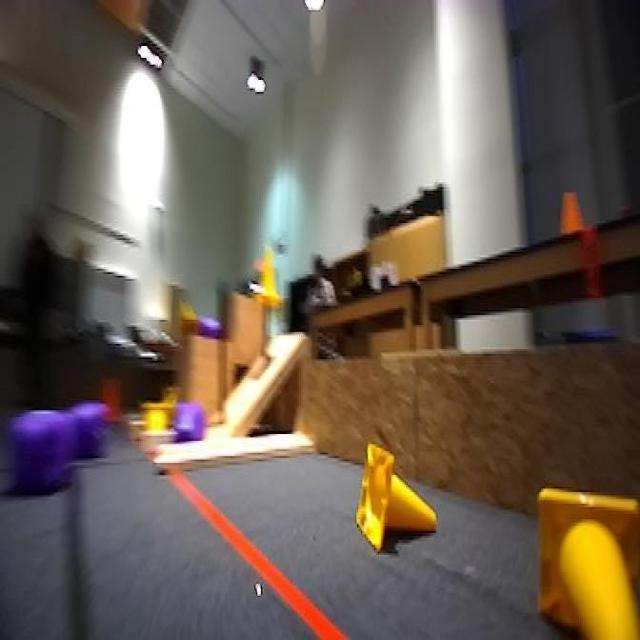frc_cone: (537, 483, 640, 640), (354, 444, 439, 550), (258, 238, 283, 313), (138, 400, 174, 436)
frc_cube: (10, 408, 74, 501), (75, 400, 110, 461), (171, 398, 199, 443), (190, 305, 223, 342)
